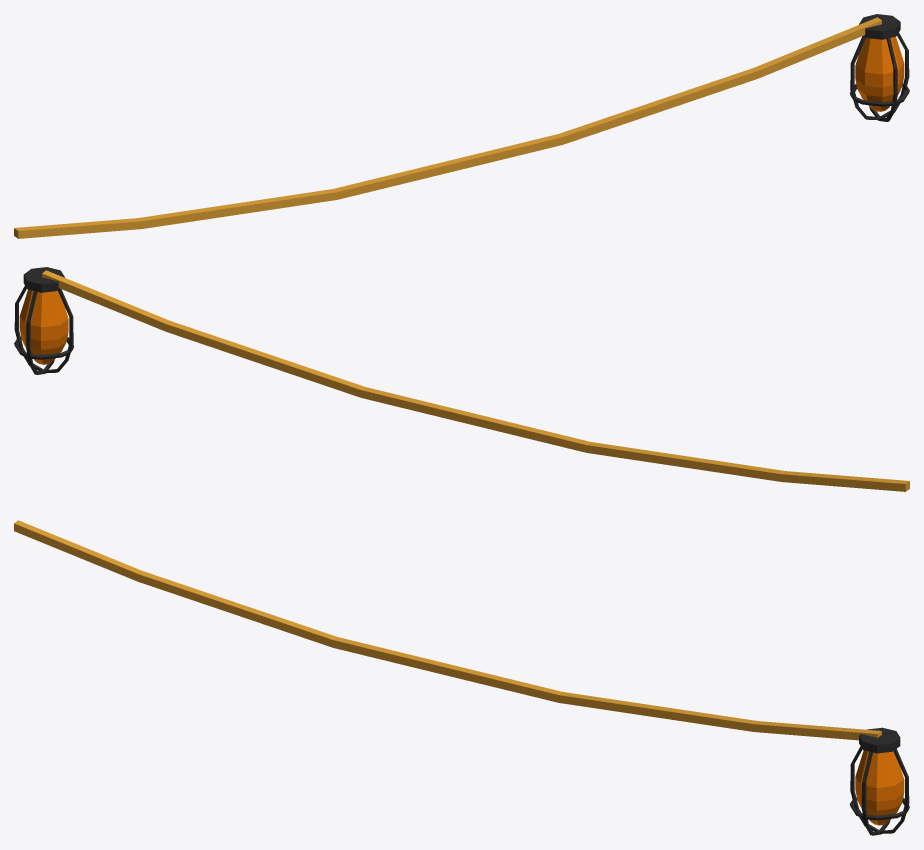
File: WallDecor_09.fbx
The picture shows the model from 3 angles, top to bottom: view 1: azimuth 30°, elevation 25°; view 2: azimuth 150°, elevation 25°; view 3: azimuth 330°, elevation 25°; orthographic projection.
Visible parts, largest first — view 1: WallDecor_09; view 2: WallDecor_09; view 3: WallDecor_09.
Part boxes in pixels (bbox=[...]): WallDecor_09: bbox=[14, 14, 909, 238]; WallDecor_09: bbox=[14, 267, 909, 491]; WallDecor_09: bbox=[14, 520, 909, 835].
Bounding box in the file's own units: 258 × 28.12 × 16.58.
